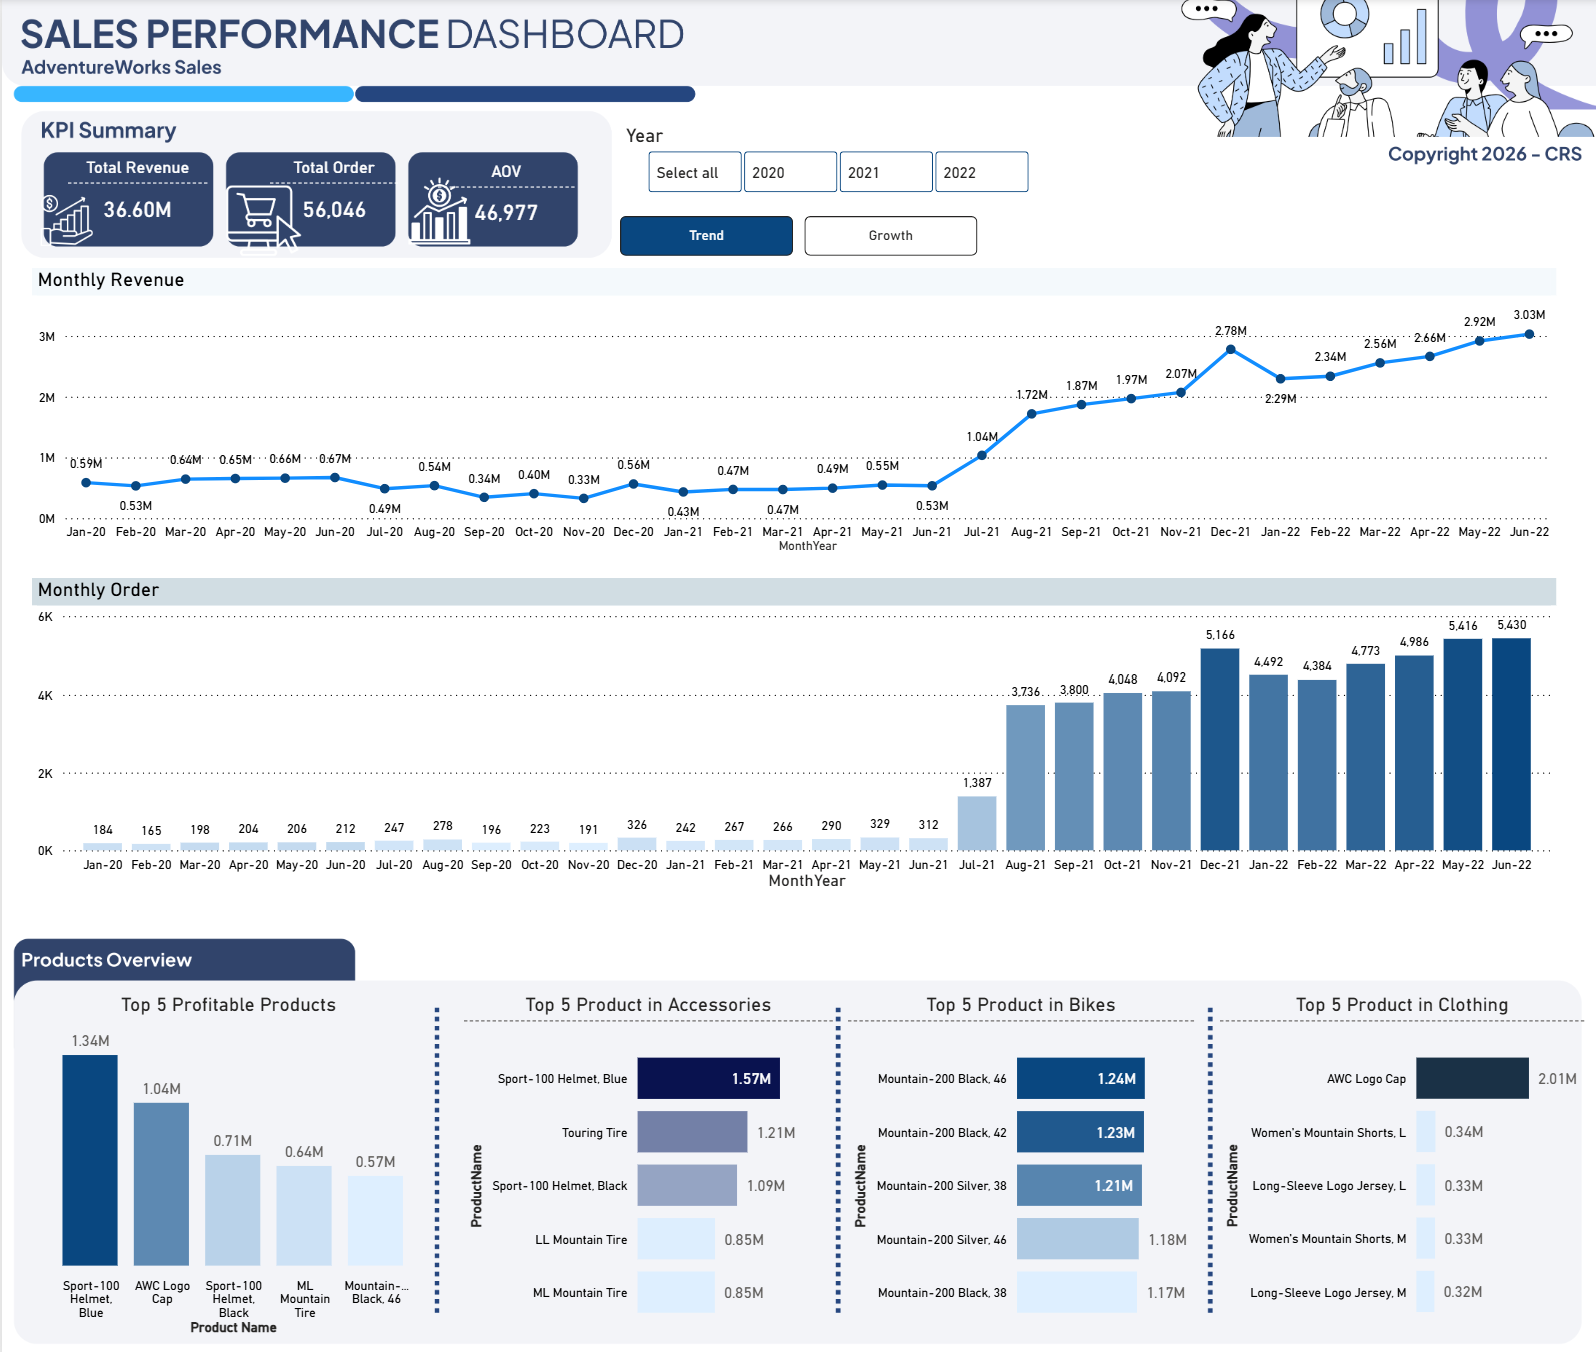

What the dashboard file says about the page in this screenshot:
{"tool":"powerbi","page":{"name":"Core KPI","canvas":[1400,1200],"ordinal":0},"visuals":[{"type":"lineChart","title":"Monthly Revenue","fields":{"Category":["01_core_KPI.monthyear"],"Y":["Sum(01_core_KPI.revenue)"]},"box":[26.2,237.7,1338.9,254.8],"z":0,"group":"g1"},{"type":"advancedSlicerVisual","fields":{"Values":["01_core_KPI.monthyear.Variation.Date Hierarchy.Year"]},"box":[542.5,111.2,385,65],"z":0},{"type":"card","title":"AOV","fields":{"Values":["Sum(01_core_KPI.AOV)"]},"box":[383.8,143.8,120,65],"z":1000},{"type":"card","title":"Total Order","fields":{"Values":["Sum(01_core_KPI.total_order)"]},"box":[236.2,141.2,112.5,67.5],"z":2000},{"type":"card","title":"Total Revenue","fields":{"Values":["Sum(01_core_KPI.revenue)"]},"box":[58.8,141.2,122.5,67.5],"z":3000},{"type":"group","id":"g1","title":"Group 2","box":[26.2,237.7,1338.9,549.5],"z":3000},{"type":"clusteredColumnChart","title":"Monthly Order","fields":{"Category":["01_core_KPI.monthyear"],"Y":["Sum(01_core_KPI.total_order)"]},"box":[26.2,509.4,1338.9,277.8],"z":4000,"group":"g1"},{"type":"clusteredColumnChart","title":"Top 5 Profitable Products","fields":{"Category":["02_top_profitable.ProductName"],"Y":["Sum(02_top_profitable.profit)"]},"box":[13.8,872.5,370,305],"z":4000},{"type":"clusteredBarChart","title":"Top 5 Product in Accessories","fields":{"Y":["Sum(03_top_by_category.total_revenue)"],"Category":["03_top_by_category.ProductName"]},"box":[406.2,872.5,323.8,305],"z":5000},{"type":"clusteredBarChart","title":"Top 5 Product in Bikes","fields":{"Y":["Sum(03_top_by_category.total_revenue)"],"Category":["03_top_by_category.ProductName"]},"box":[742.5,872.5,303.8,305],"z":6000},{"type":"clusteredBarChart","title":"Top 5 Product in Clothing","fields":{"Y":["Sum(03_top_by_category.total_revenue)"],"Category":["03_top_by_category.ProductName"]},"box":[1070,872.9,320,304.3],"z":7000},{"type":"bookmarkNavigator","box":[542.5,191.2,315,35],"z":8000}]}

Visuals, with their boxes in screenshot pixels (x1, y1, x2, y2), scaled from the page's 1400x1200 canvas onto the 1596x1352 screenshot:
"Monthly Revenue" lineChart: 30 268 1556 555
advancedSlicerVisual - 01_core_KPI.monthyear.Variation.Date Hierarchy.Year: 618 125 1057 199
"AOV" card: 438 162 574 235
"Total Order" card: 269 159 398 235
"Total Revenue" card: 67 159 207 235
"Group 2" group: 30 268 1556 887
"Monthly Order" clusteredColumnChart: 30 574 1556 887
"Top 5 Profitable Products" clusteredColumnChart: 16 983 438 1327
"Top 5 Product in Accessories" clusteredBarChart: 463 983 832 1327
"Top 5 Product in Bikes" clusteredBarChart: 846 983 1193 1327
"Top 5 Product in Clothing" clusteredBarChart: 1220 983 1585 1326
bookmarkNavigator: 618 215 978 255
